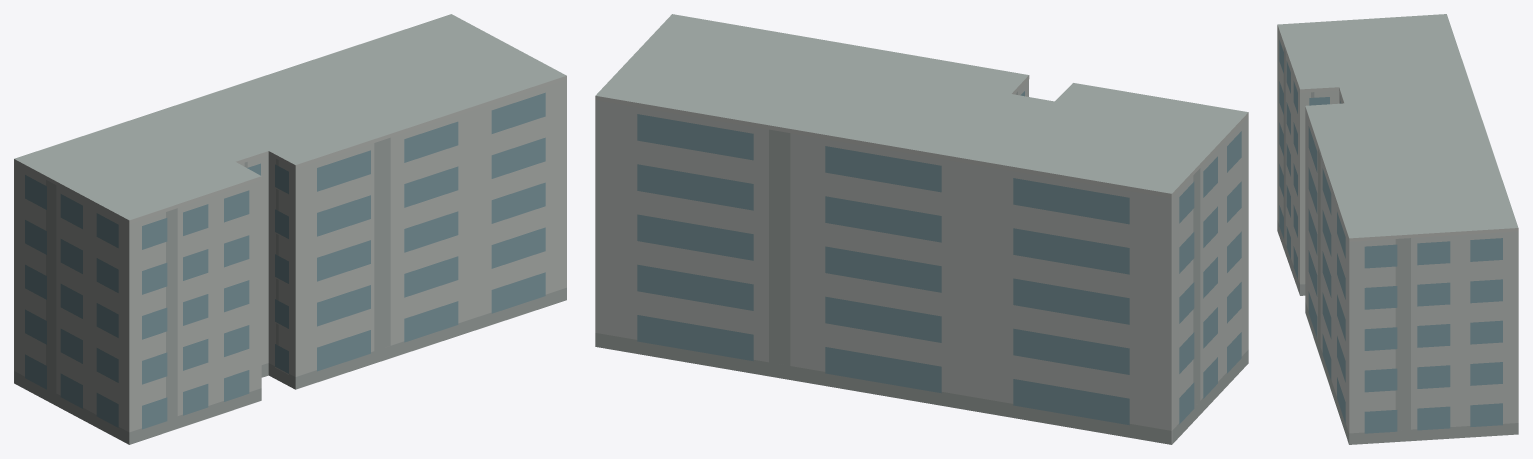
The model's file is survey-upis-32994659.glb.
3 views of the same model, side by side, from view 1: azimuth 30°, elevation 25°; view 2: azimuth 150°, elevation 25°; view 3: azimuth 270°, elevation 25° (orthographic). The views are drawn at different scales.
Parts seen in each view (by area): view 1: survey-upis-32994659.tmp; view 2: survey-upis-32994659.tmp; view 3: survey-upis-32994659.tmp.
Boxes of the visible parts, box(x1,y1,x2,y2) form: survey-upis-32994659.tmp: box(14, 14, 566, 444); survey-upis-32994659.tmp: box(595, 14, 1248, 444); survey-upis-32994659.tmp: box(1277, 14, 1518, 444).
Size of the model in its own units: 33.68 by 14.45 by 15.3.
